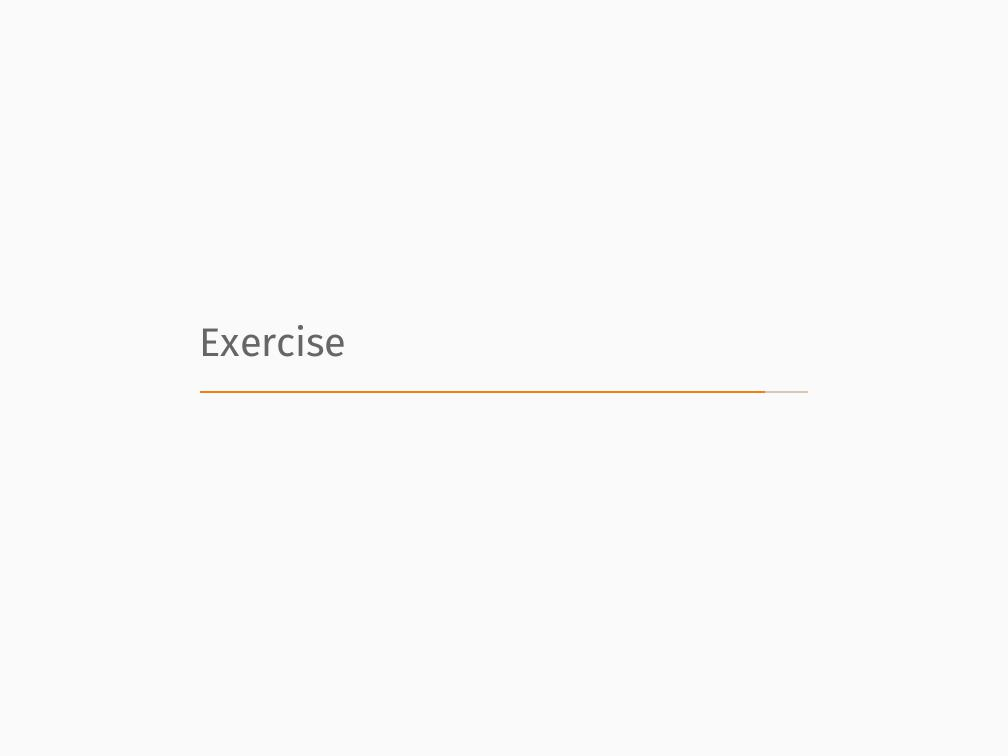Title: (189, 316, 354, 371)
